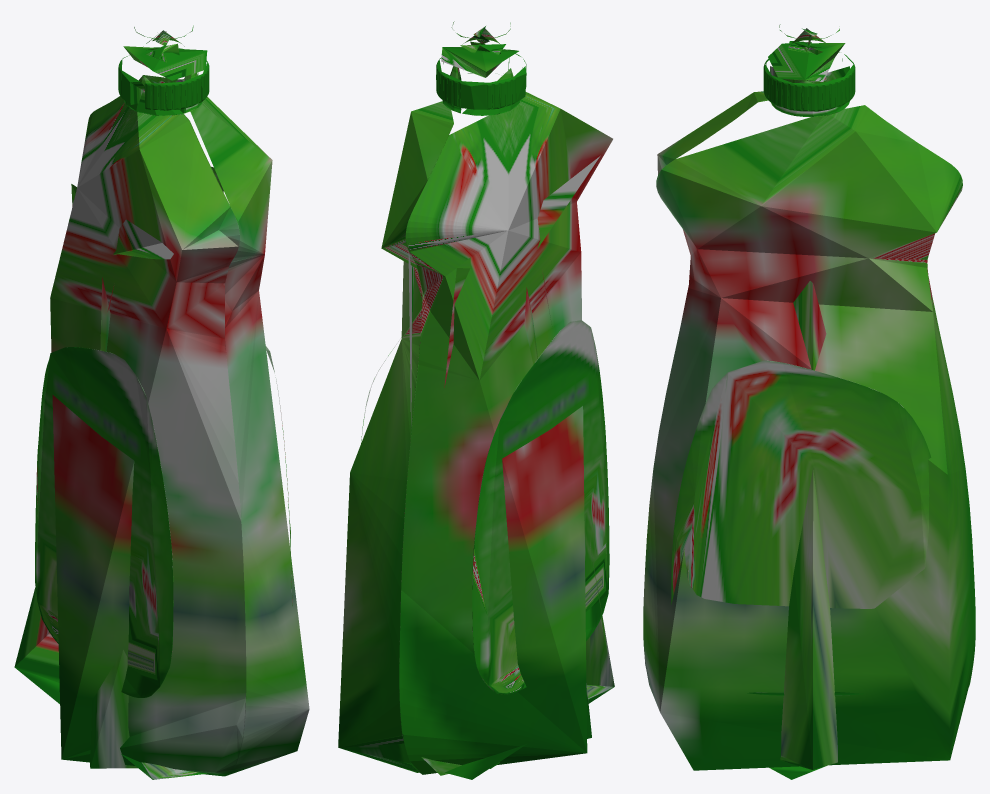
The model's file is cleaning_dishSoap_a01.glb.
The picture shows the model from 3 angles, left to right: view 1: azimuth 30°, elevation 25°; view 2: azimuth 150°, elevation 25°; view 3: azimuth 270°, elevation 25°; orthographic projection.
Parts seen in each view (by area): view 1: geometry_0; view 2: geometry_0; view 3: geometry_0.
Boxes of the visible parts, x1,y1,x2,y2 form: geometry_0: (14,25,309,779); geometry_0: (338,21,614,779); geometry_0: (643,24,975,779).
Size of the model in its own units: 0.1244 by 0.42 by 0.1779.
1 material, 1 textured.
